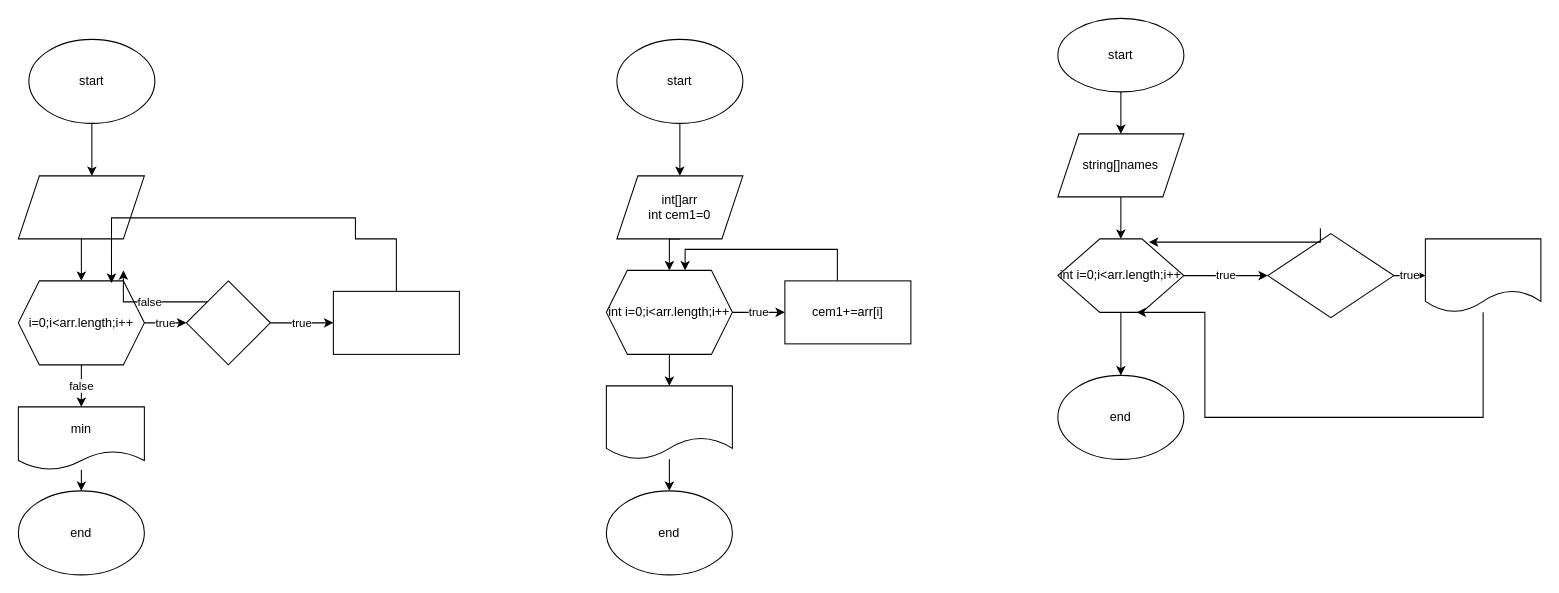
Some shapes in this 1559 by 593 pixel diagram are drawn without their labels. Each missing label, with the box of its shape:
arr[i]<min: (185, 280, 270, 365)
cem1: (605, 385, 732, 459)
int []arr int min=arr[0]: (17, 175, 144, 239)
min=arr[i]: (332, 290, 459, 354)
names[i]: (1424, 238, 1541, 312)
names[i].length>4: (1267, 233, 1394, 318)
